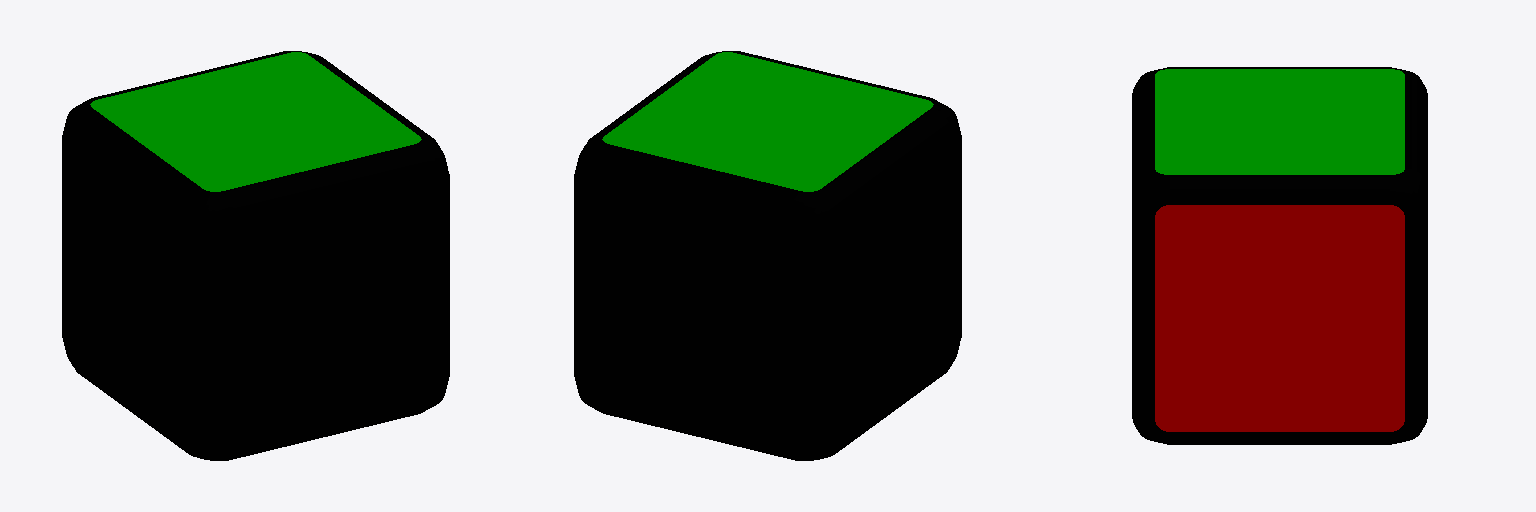
File: edge_rg.obj
3 views of the same model, side by side, from view 1: azimuth 30°, elevation 25°; view 2: azimuth 150°, elevation 25°; view 3: azimuth 270°, elevation 25° (orthographic).
Visible parts, largest first — view 1: Cube; view 2: Cube; view 3: Cube.
Boxes of the visible parts, x1,y1,x2,y2 form: Cube: [62, 51, 449, 460]; Cube: [574, 51, 961, 460]; Cube: [1132, 67, 1427, 444].
Size of the model in its own units: 2 by 2 by 2.